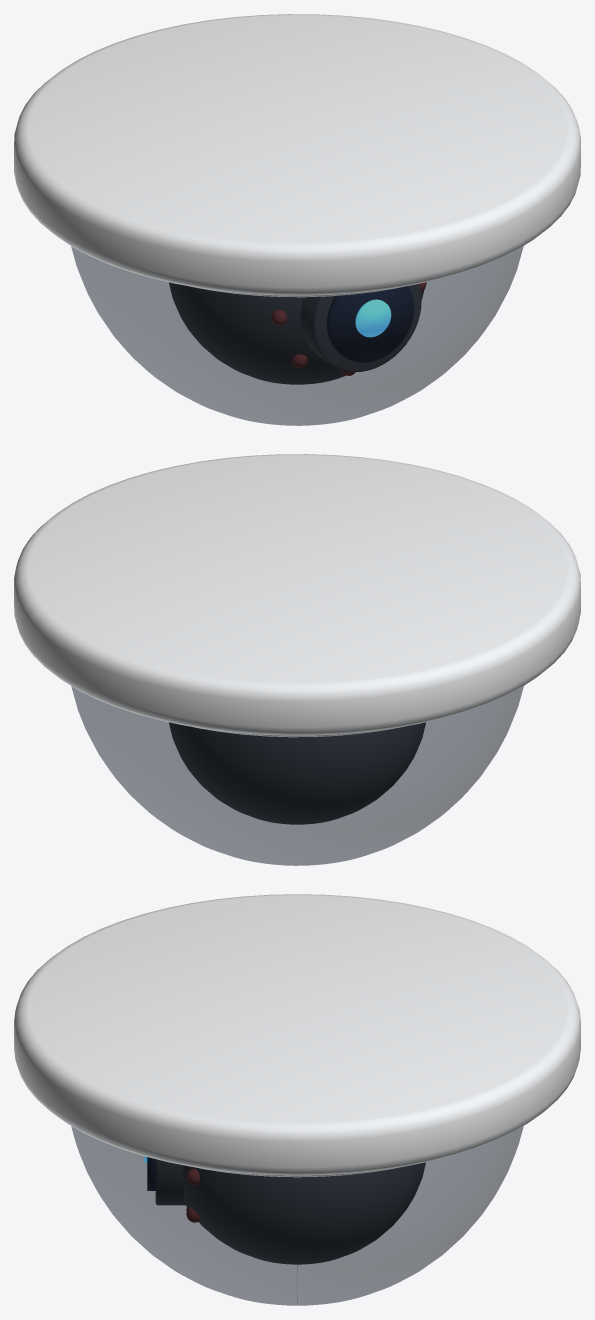
The model's file is camara_domo.glb.
3 renders of one model, top to bottom at view 1: azimuth 30°, elevation 25°; view 2: azimuth 150°, elevation 25°; view 3: azimuth 270°, elevation 25°, orthographic.
Visible parts, largest first — view 1: Base, Domo, Ojo; view 2: Base, Domo, Ojo; view 3: Base, Domo, Ojo.
Boxes of the visible parts, x1=… form: Base: x1=14, y1=14, x2=580, y2=297; Domo: x1=71, y1=246, x2=523, y2=425; Ojo: x1=169, y1=282, x2=426, y2=384; Base: x1=14, y1=454, x2=580, y2=737; Domo: x1=71, y1=686, x2=523, y2=865; Ojo: x1=169, y1=722, x2=425, y2=824; Base: x1=14, y1=894, x2=580, y2=1177; Domo: x1=71, y1=1126, x2=523, y2=1305; Ojo: x1=144, y1=1156, x2=425, y2=1264.
Bounding box in the file's own units: 2 × 1.07 × 2.
